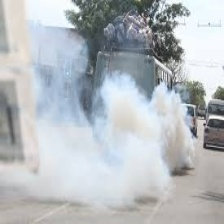smoke: (9, 76, 198, 198)
